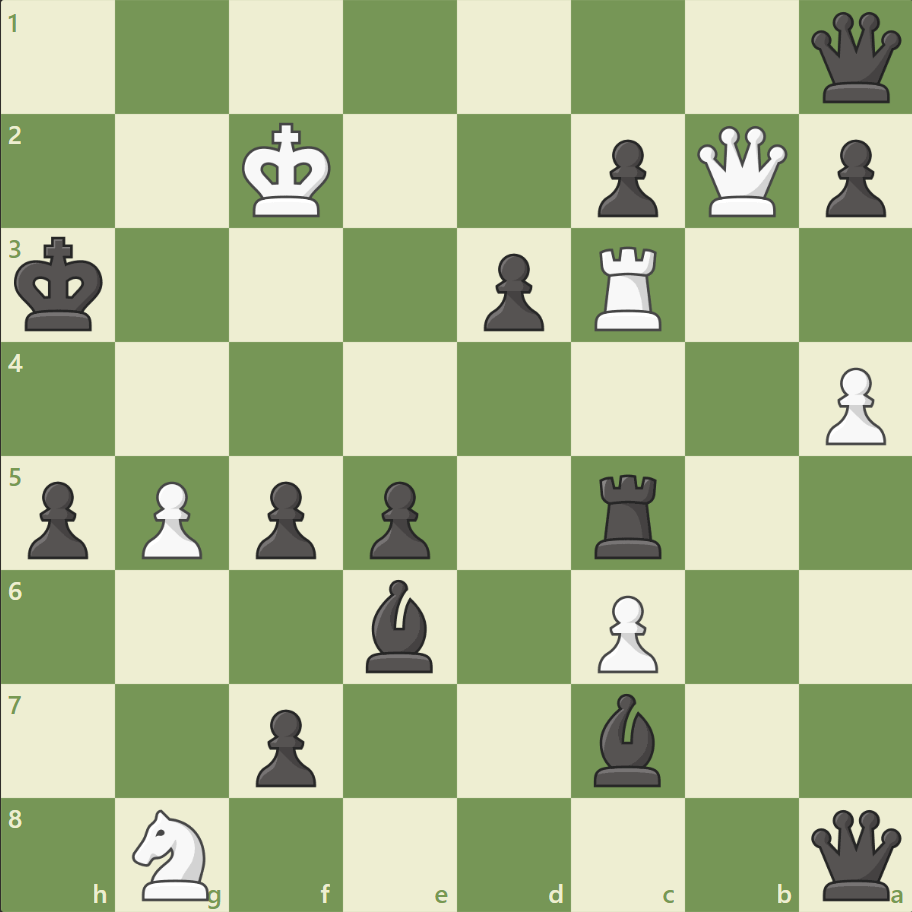K: (238, 117, 338, 225)
N: (124, 802, 222, 904)
P: (133, 473, 208, 564), (588, 586, 662, 677), (815, 359, 889, 450)
Q: (691, 122, 790, 222)
R: (587, 239, 670, 336)
b: (585, 687, 669, 790), (358, 574, 442, 676)
k: (11, 231, 111, 339)
p: (247, 700, 322, 791), (247, 473, 322, 564), (20, 473, 95, 564), (474, 246, 549, 337), (361, 473, 435, 564), (815, 132, 889, 223), (588, 132, 662, 223)
q: (805, 804, 904, 903), (805, 9, 904, 108)
r: (587, 466, 670, 563)
